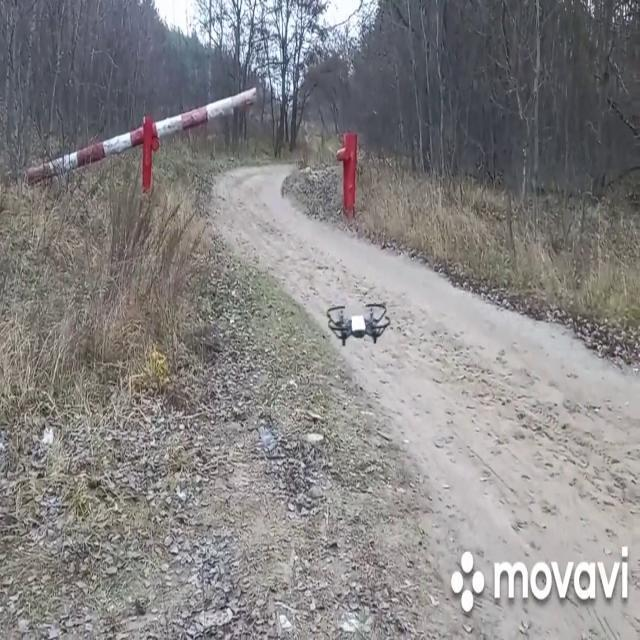Drons: (324, 303, 392, 343)
